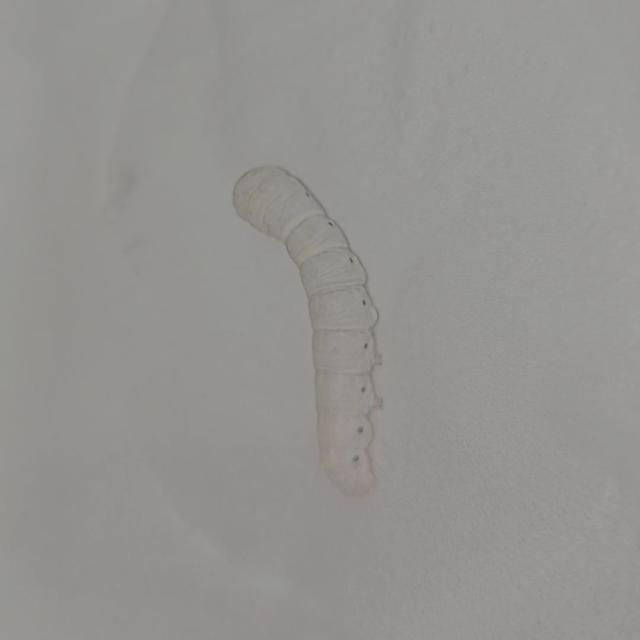Healthy: (224, 156, 402, 502)
